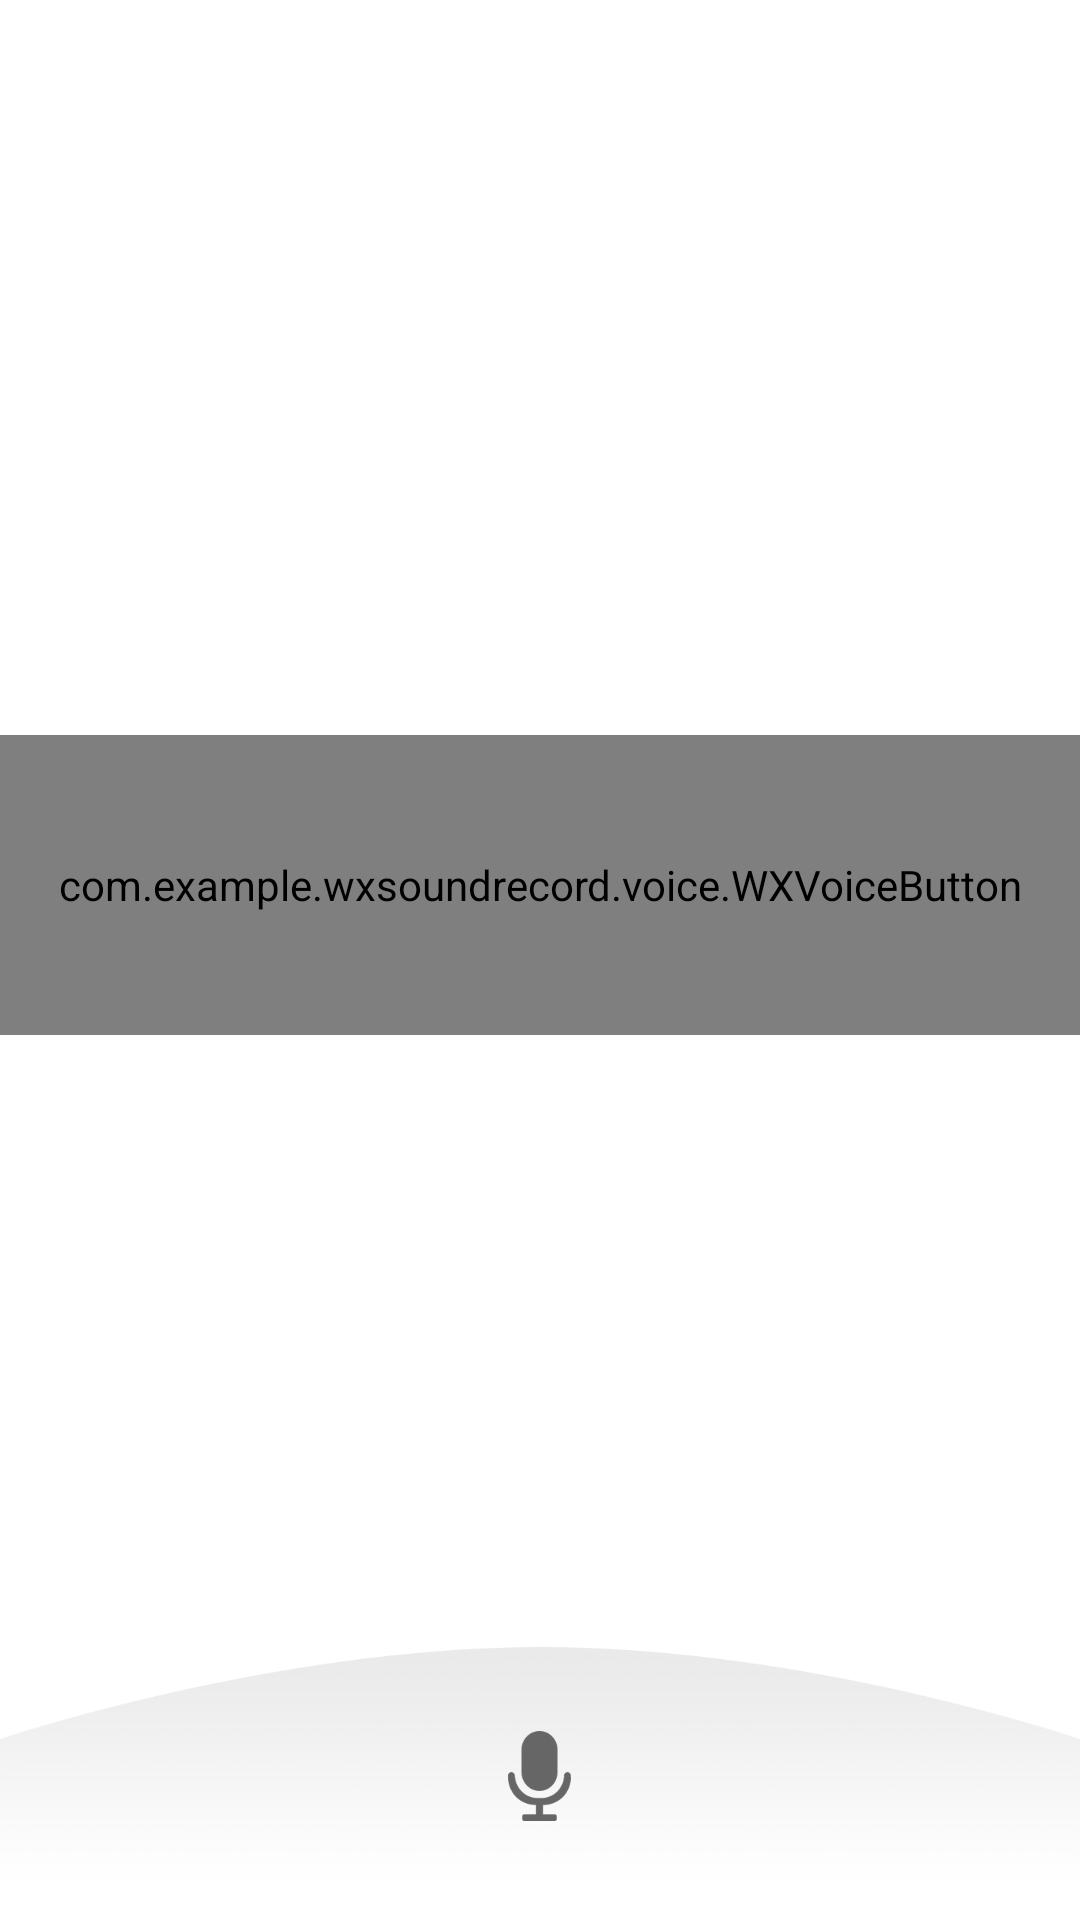

Icon bounding boxes for this 1080px x 1920px phone screenshot, format (x1, y1, x2, y2):
voice mic: (508, 1731, 571, 1821)
